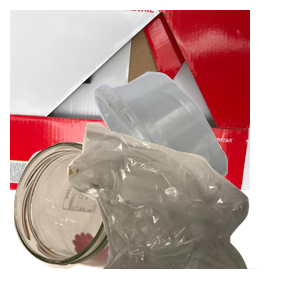cardboard: (10, 10, 250, 190)
glass: (11, 139, 179, 300)
plastic: (91, 69, 300, 249)
trash: (65, 120, 300, 300)
